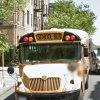Bus: (13, 27, 94, 97)
